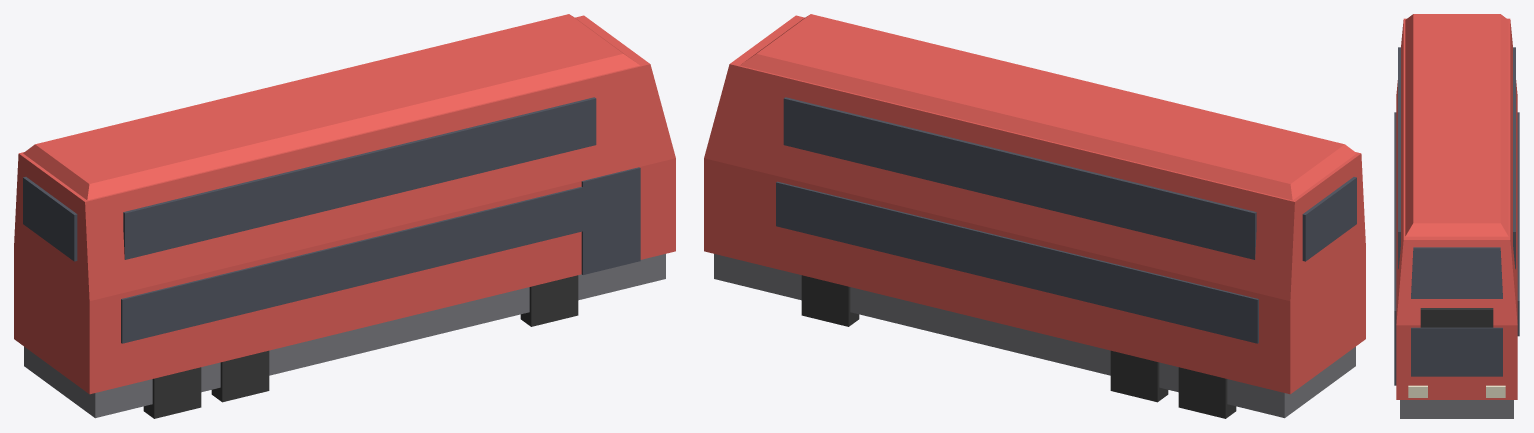
Rendered from bus.gltf.
3 views of the same model, side by side, from view 1: azimuth 30°, elevation 25°; view 2: azimuth 150°, elevation 25°; view 3: azimuth 270°, elevation 25° (orthographic). The views are drawn at different scales.
Bounding box in the file's own units: 11.32 × 4.4 × 2.58.
